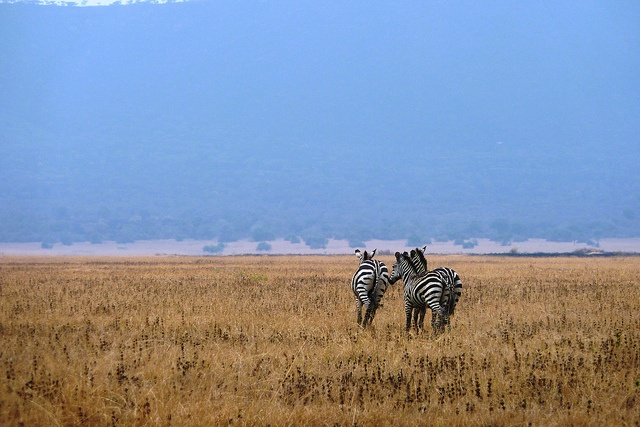zebra: (388, 252, 460, 333), (351, 247, 389, 325)
